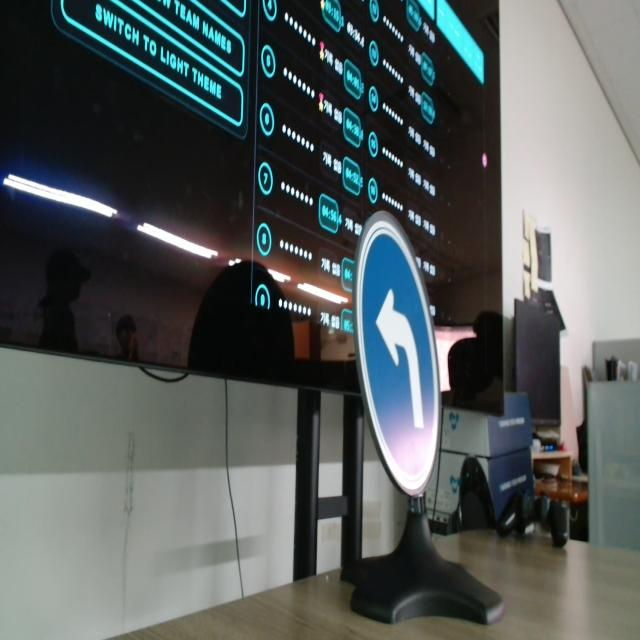left_direction: (344, 204, 440, 503)
